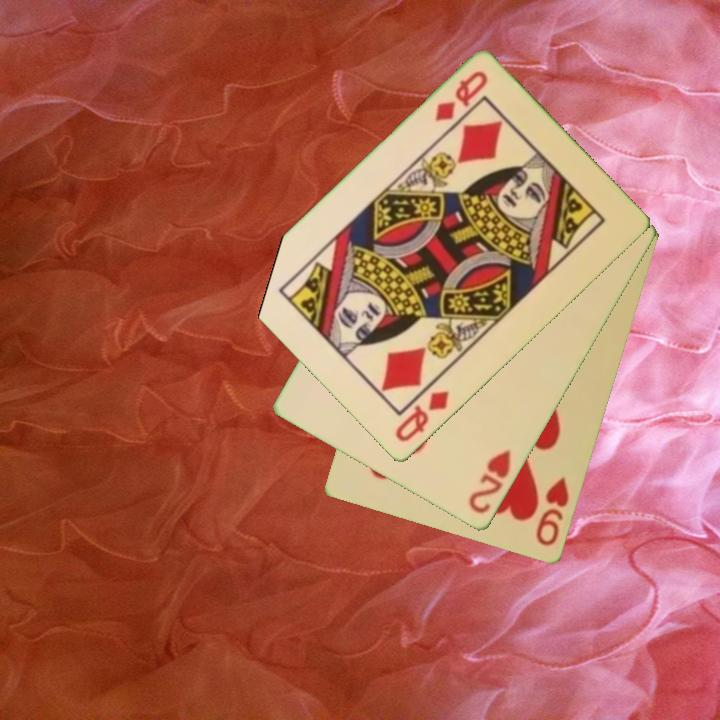2h: (465, 446, 514, 518)
9h: (533, 474, 572, 550)
Qd: (391, 387, 453, 446), (430, 67, 491, 125)
